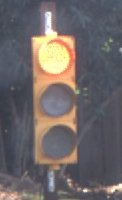Red: (26, 30, 82, 171)
